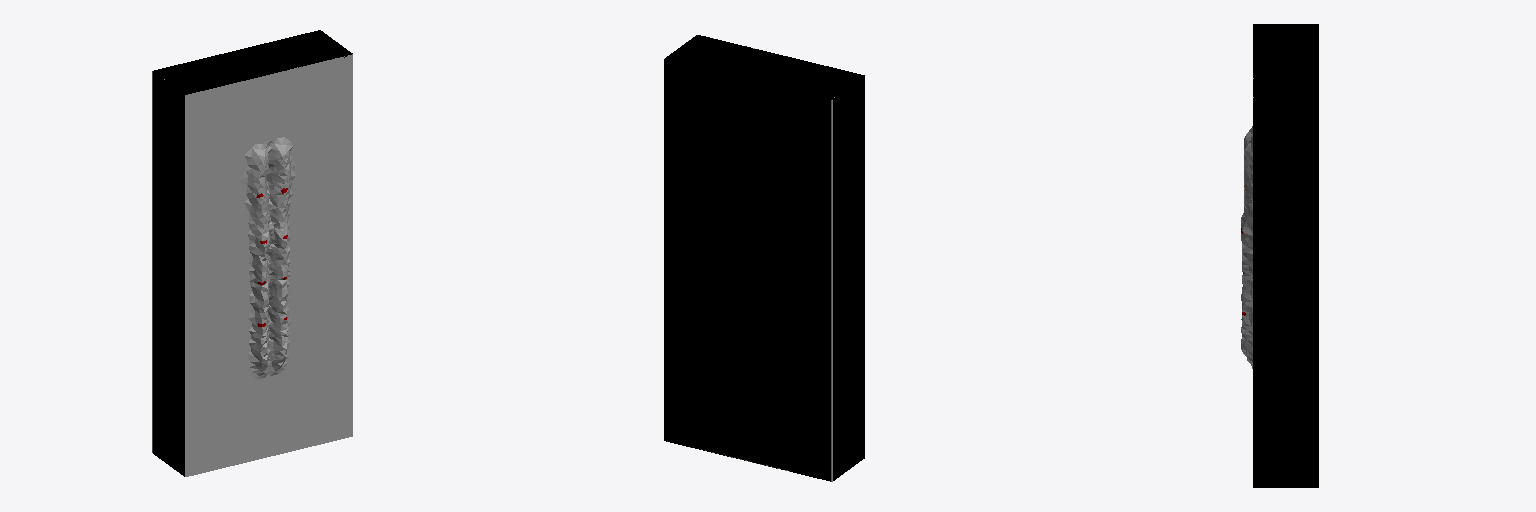
3 renders of one model, left to right at view 1: azimuth 30°, elevation 25°; view 2: azimuth 150°, elevation 25°; view 3: azimuth 270°, elevation 25°, orthographic.
Parts seen in each view (by area): view 1: /ambf/env/Phantom_/ambf/env/Phantom_/ambf/env/Phantom_Phantom_Cu; view 2: /ambf/env/Phantom_/ambf/env/Phantom_/ambf/env/Phantom_Phantom_Cu; view 3: /ambf/env/Phantom_/ambf/env/Phantom_/ambf/env/Phantom_Phantom_Cu.
Part boxes in pixels (x1,y1,x2,y2): /ambf/env/Phantom_/ambf/env/Phantom_/ambf/env/Phantom_Phantom_Cu: (152, 30, 352, 476); /ambf/env/Phantom_/ambf/env/Phantom_/ambf/env/Phantom_Phantom_Cu: (664, 35, 864, 481); /ambf/env/Phantom_/ambf/env/Phantom_/ambf/env/Phantom_Phantom_Cu: (1241, 24, 1318, 487).
Size of the model in its own units: 0.9742 by 2.12 by 0.3962.
Materials: 1 (1 with a texture image).